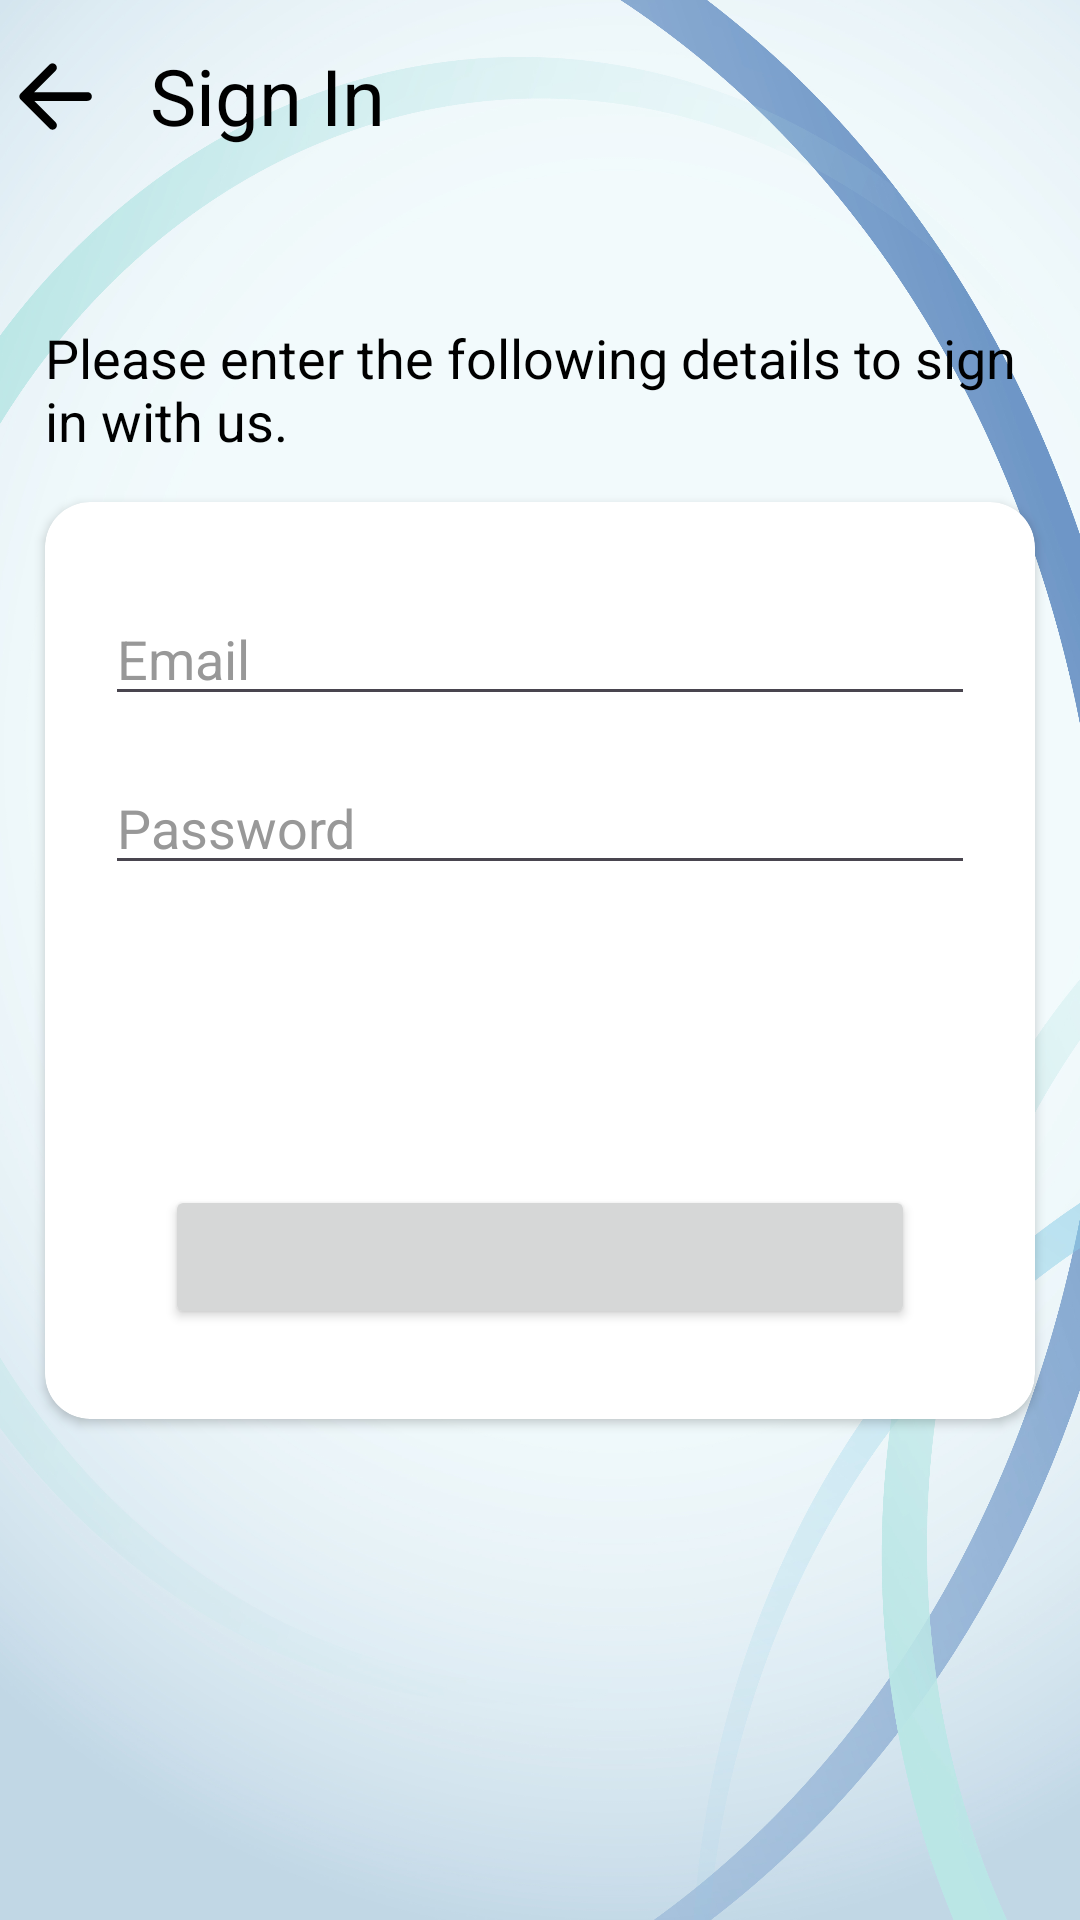

Icon click points for this 1080 x 1920 phone screenshot, format [x,y]:
back: [55,96]
